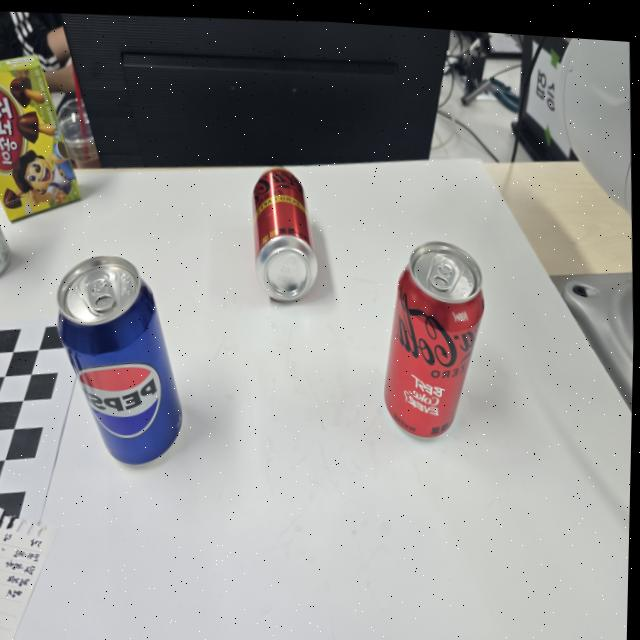can_coke_decaf: (250, 166, 317, 305)
can_coke_zero: (383, 241, 485, 436)
can_pepsi: (56, 253, 183, 466)
